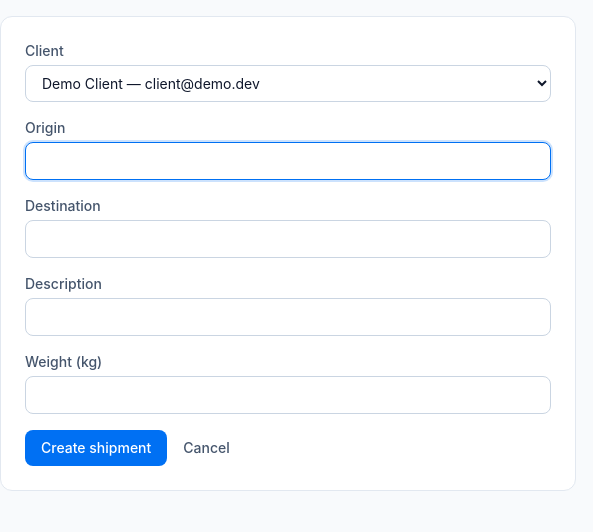
Test: NewShipmentForm › puts the API's Client not found under the picker
The width and height of the screenshot is (593, 532).
Earlier steps of the test are not shown.
Type keys "  Odesa, UA "
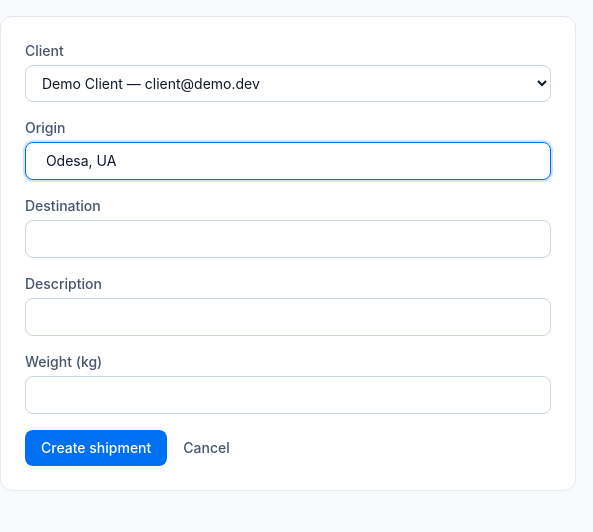
Click the field labelled "Destination" at coordinates (288, 239), box [25,220,551,258]
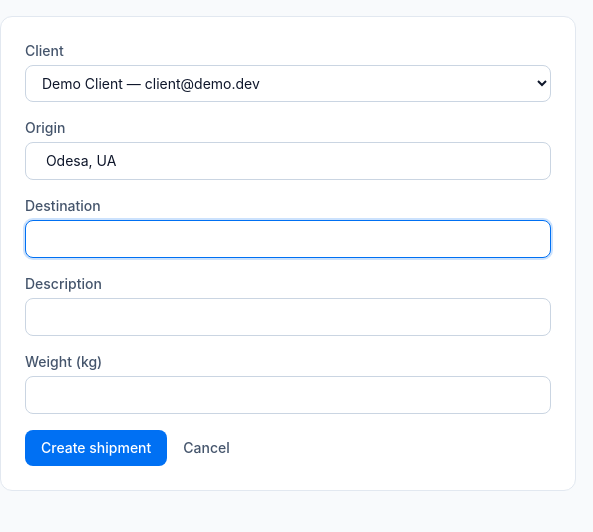
Type keys "Kharkiv, UA"
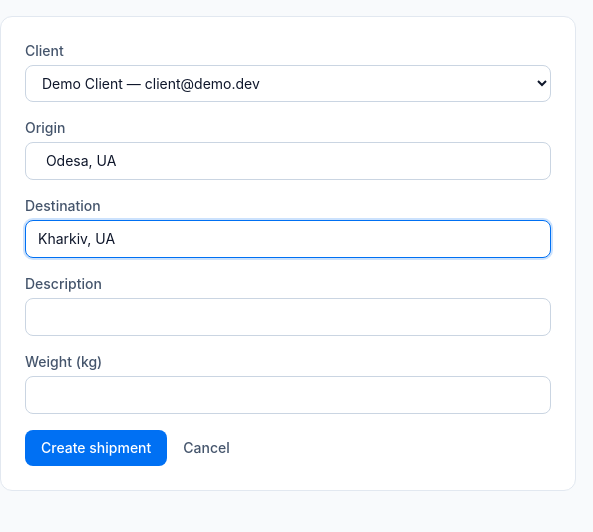
Click the field labelled "Description" at coordinates (288, 317), box [25,298,551,336]
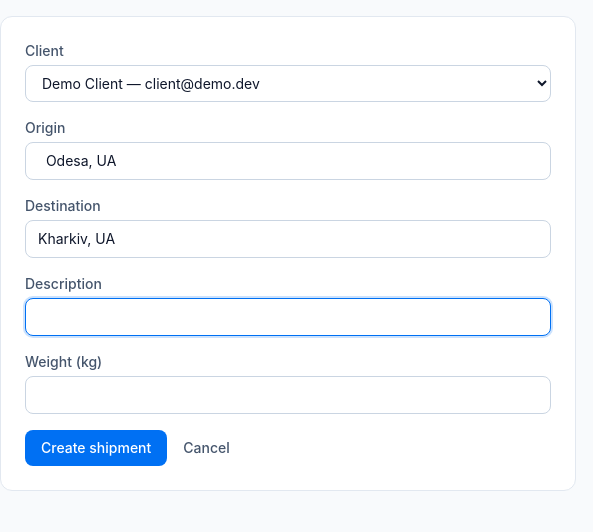
Type keys "Box of spare machine parts"
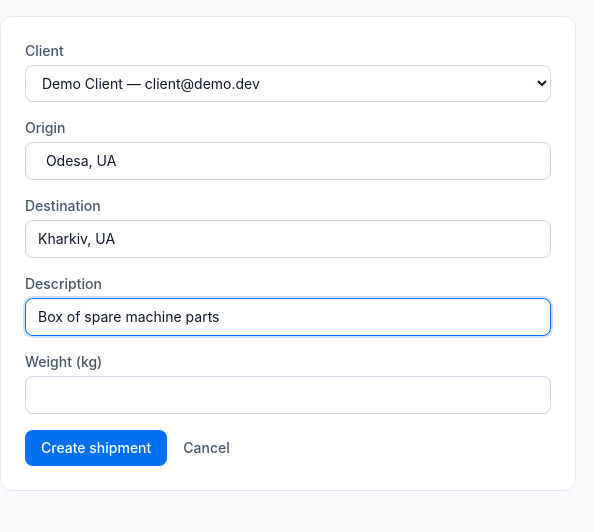
Click the button "Create shipment" at coordinates (96, 448), box [25,430,167,466]
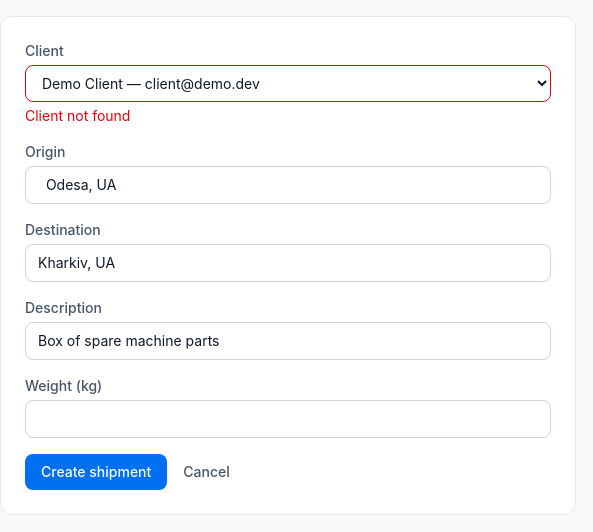
Check: the message reads "Client not found", box [25,107,130,124]
Check: the number of messages is 1, box [25,107,130,124]
